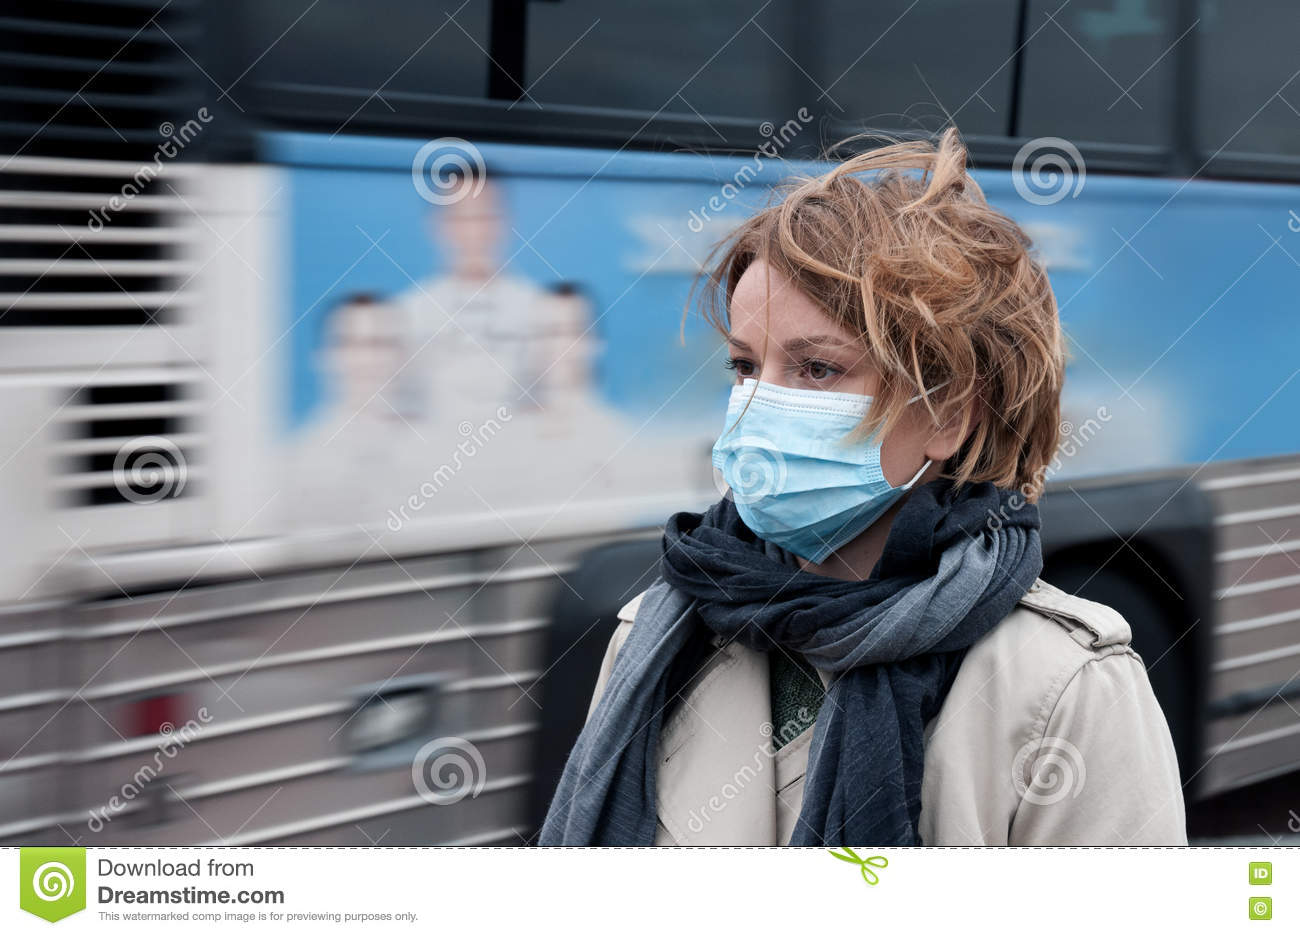mask: (716, 382, 911, 571)
